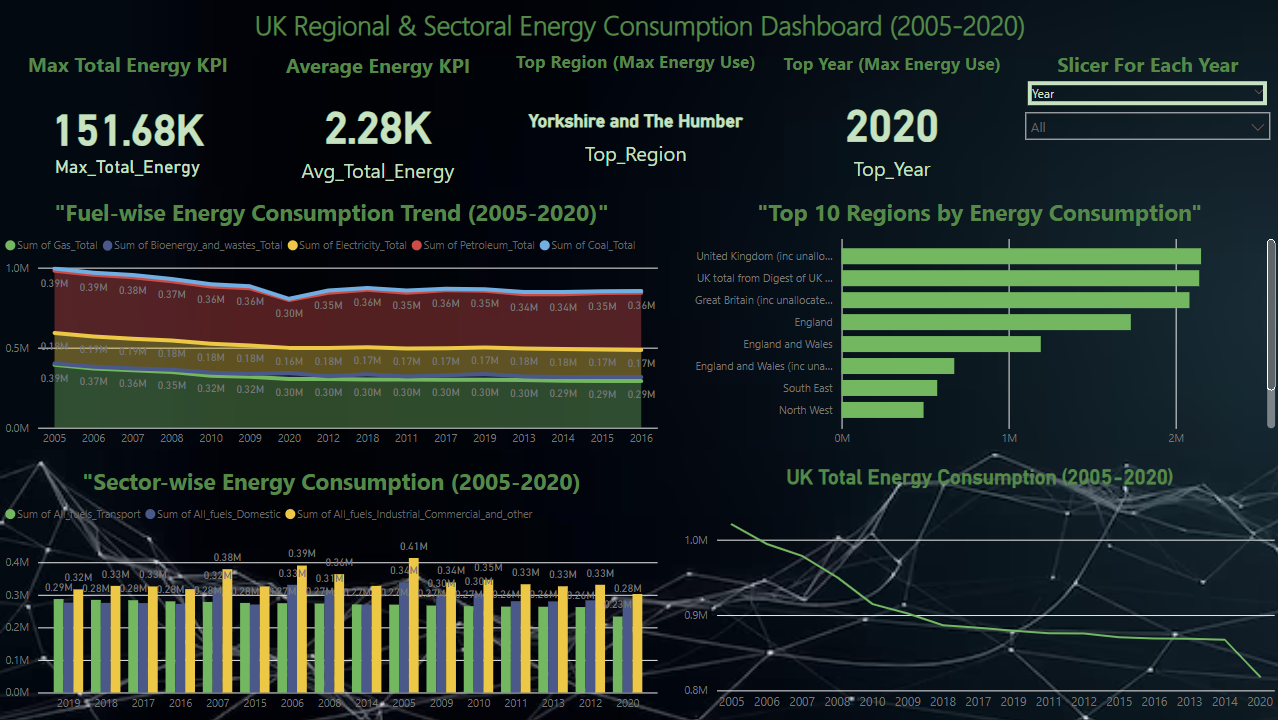

What the dashboard file says about the page in this screenshot:
{"tool":"powerbi","page":{"name":"Page 1","canvas":[1280,720],"ordinal":0},"visuals":[{"type":"lineChart","title":"UK Total Energy Consumption (2005-2020)","fields":{"Category":["EnergyConsumption.Year"],"Y":["Sum(EnergyConsumption.All_fuels_Total)"]},"box":[678.7,464.7,601.6,255.6],"z":0},{"type":"stackedAreaChart","title":"\"Fuel-wise Energy Consumption Trend (2005-2020)\"","fields":{"Category":["EnergyConsumption.Year"],"Y":["Sum(EnergyConsumption.Gas_Total)","Sum(EnergyConsumption.Bioenergy_and_wastes_Total)","Sum(EnergyConsumption.Electricity_Total)","Sum(EnergyConsumption.Petroleum_Total)","Sum(EnergyConsumption.Coal_Total)"]},"box":[0,195.7,662.8,259.2],"z":1000},{"type":"barChart","title":"\"Top 10 Regions by Energy Consumption\"","fields":{"Category":["EnergyConsumption.Region"],"Y":["Sum(EnergyConsumption.All_fuels_Total)"]},"box":[678.7,195.7,601.6,259.2],"z":2000},{"type":"clusteredColumnChart","title":"\"Sector-wise Energy Consumption (2005-2020)","fields":{"Category":["EnergyConsumption.Year"],"Y":["Sum(EnergyConsumption.All_fuels_Transport)","Sum(EnergyConsumption.All_fuels_Domestic)","Sum(EnergyConsumption.All_fuels_Industrial_Commercial_and_other)"]},"box":[0,464.7,662.8,255.6],"z":3000},{"type":"card","title":"Max Total Energy KPI","fields":{"Values":["EnergyConsumption.Max_Total_Energy"]},"box":[0,50.1,255.6,145.5],"z":4000},{"type":"card","title":"Average Energy KPI","fields":{"Values":["EnergyConsumption.Avg_Total_Energy"]},"box":[255.6,51.4,245.8,144.3],"z":5000},{"type":"card","title":"Top Region (Max Energy Use)","fields":{"Values":["EnergyConsumption.Top_Region"]},"box":[501.4,50.1,269,145.5],"z":6000},{"type":"card","title":"Top Year (Max Energy Use)","fields":{"Values":["EnergyConsumption.Top_Year"]},"box":[770.4,51.4,244.6,144.3],"z":7000},{"type":"slicer","title":"Slicer For Each Year","fields":{"Values":["EnergyConsumption.Year"]},"box":[1015,50.1,265.4,145.5],"z":8000},{"type":"textbox","box":[0,1.2,1280.3,50.1],"z":9000}]}

Visuals, with their boxes in screenshot pixels (x1, y1, x2, y2), scaled from the page's 1280x720 canvas onto the 1278x720 screenshot:
"UK Total Energy Consumption (2005-2020)" lineChart: rect(678, 465, 1277, 719)
""Fuel-wise Energy Consumption Trend (2005-2020)"" stackedAreaChart: rect(0, 196, 662, 455)
""Top 10 Regions by Energy Consumption"" barChart: rect(678, 196, 1277, 455)
""Sector-wise Energy Consumption (2005-2020)" clusteredColumnChart: rect(0, 465, 662, 719)
"Max Total Energy KPI" card: rect(0, 50, 255, 196)
"Average Energy KPI" card: rect(255, 51, 501, 196)
"Top Region (Max Energy Use)" card: rect(501, 50, 769, 196)
"Top Year (Max Energy Use)" card: rect(769, 51, 1013, 196)
"Slicer For Each Year" slicer: rect(1013, 50, 1277, 196)
textbox: rect(0, 1, 1277, 51)
